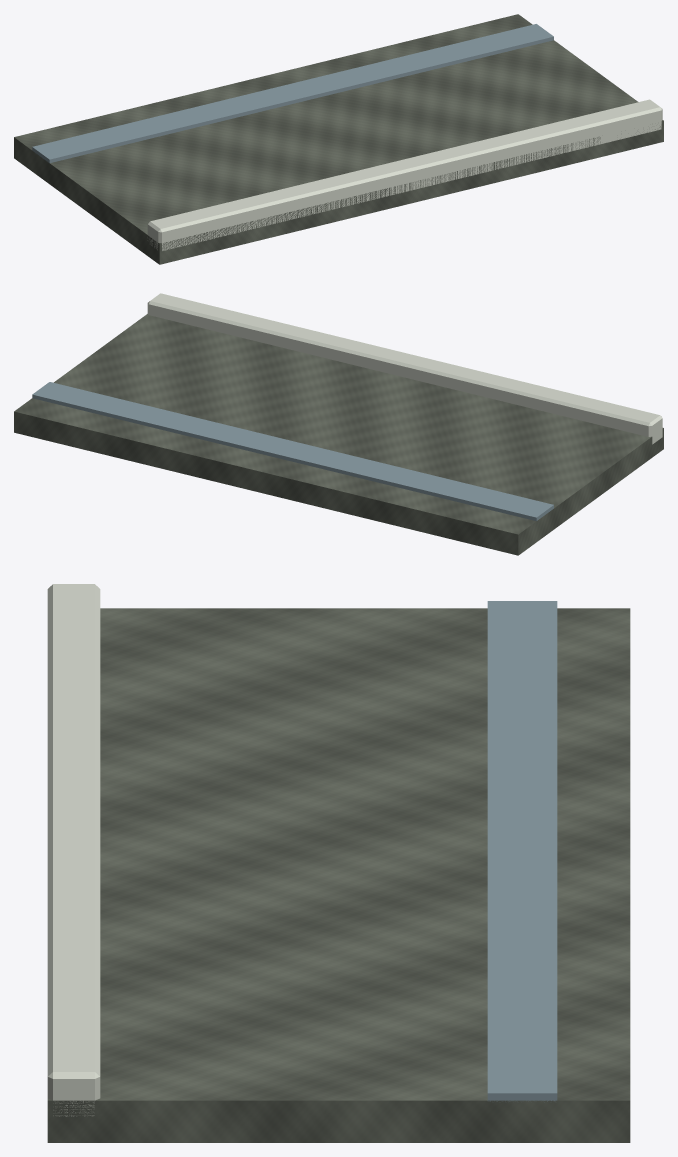
The model's file is City_Sidewalk_2x4m.glb.
The picture shows the model from 3 angles, top to bottom: view 1: azimuth 30°, elevation 25°; view 2: azimuth 150°, elevation 25°; view 3: azimuth 270°, elevation 25°; orthographic projection. The views are drawn at different scales.
Visible parts, largest first — view 1: City_Sidewalk_2x4m_Slab, City_Sidewalk_2x4m_Curb, City_Sidewalk_2x4m_ServiceStrip; view 2: City_Sidewalk_2x4m_Slab, City_Sidewalk_2x4m_Curb, City_Sidewalk_2x4m_ServiceStrip; view 3: City_Sidewalk_2x4m_Slab, City_Sidewalk_2x4m_ServiceStrip, City_Sidewalk_2x4m_Curb.
Part boxes in pixels (x1,y1,x2,y2): City_Sidewalk_2x4m_Slab: [14, 14, 663, 264]; City_Sidewalk_2x4m_Curb: [147, 99, 662, 250]; City_Sidewalk_2x4m_ServiceStrip: [32, 24, 553, 163]; City_Sidewalk_2x4m_Slab: [14, 313, 663, 555]; City_Sidewalk_2x4m_Curb: [147, 293, 662, 444]; City_Sidewalk_2x4m_ServiceStrip: [32, 382, 553, 521]; City_Sidewalk_2x4m_Slab: [47, 608, 630, 1142]; City_Sidewalk_2x4m_ServiceStrip: [487, 601, 557, 1102]; City_Sidewalk_2x4m_Curb: [47, 584, 100, 1116].
Bounding box in the file's own units: 4 × 0.26 × 2.
3 materials, 1 textured.
